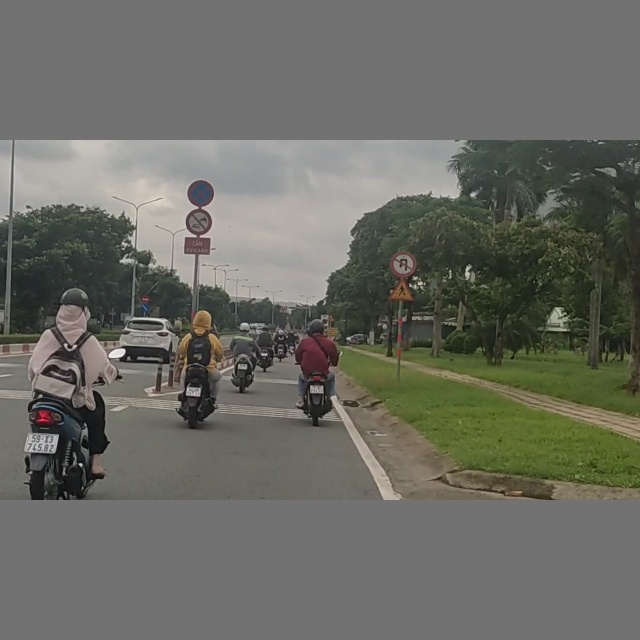P.102: (141, 295, 149, 303)
P.111: (185, 208, 213, 236)
P.124a*: (389, 251, 417, 277)
P.130: (188, 179, 214, 206)
R.302a: (141, 303, 149, 312)
W.224: (389, 279, 414, 301)
